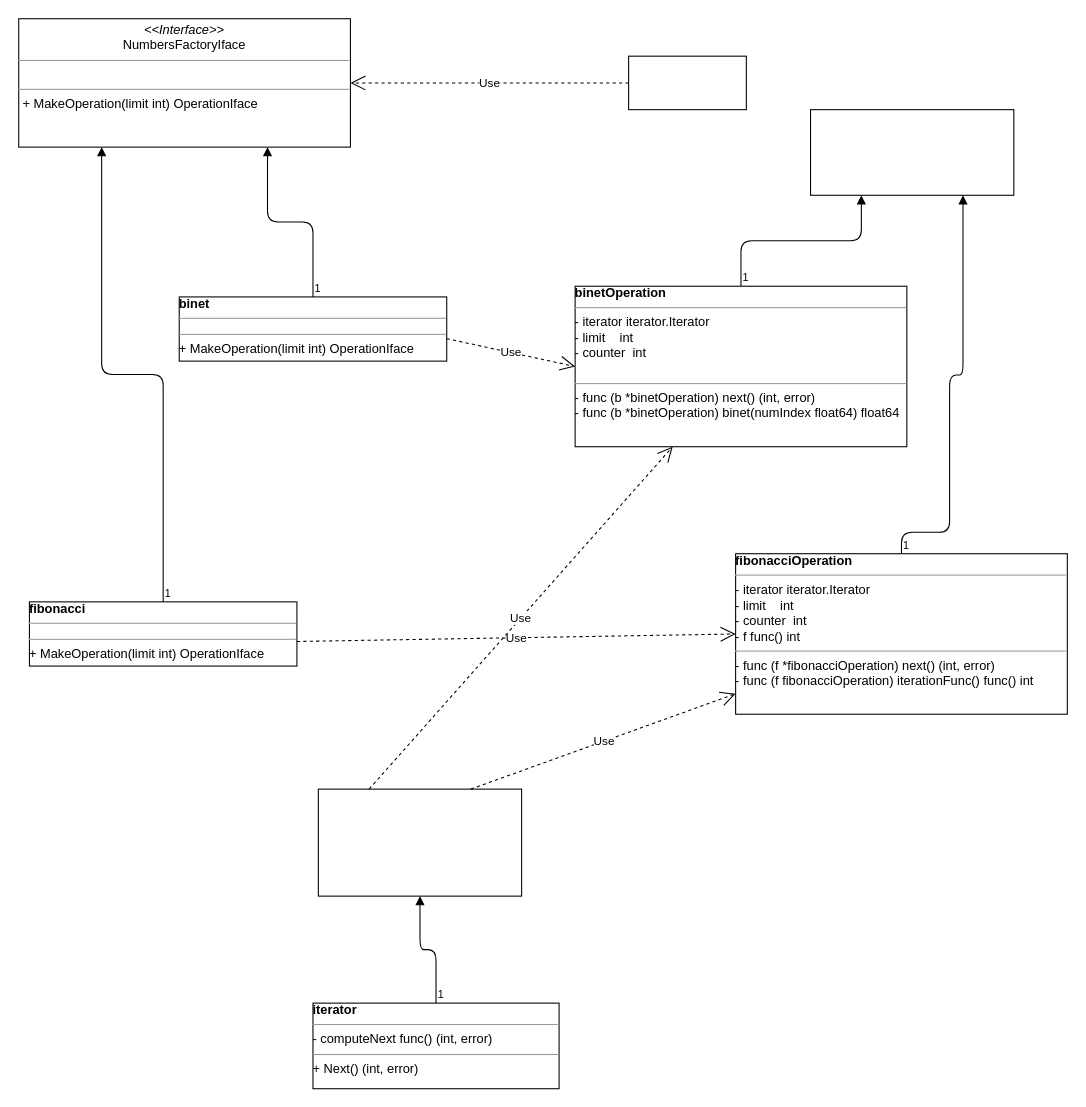
This 1086x1107 diagram has some shape labels left out. The shapes that lost their labels are listed below. From the top down, each one's centre as x and y in pixels, then its label:
the point at 687,82: Клиент
the point at 911,152: <<Interface>> OperationIface + Limit() int + Iterator() iterator.Iterator
the point at 419,842: <<Interface>> Iterator + Next() (int, error)
